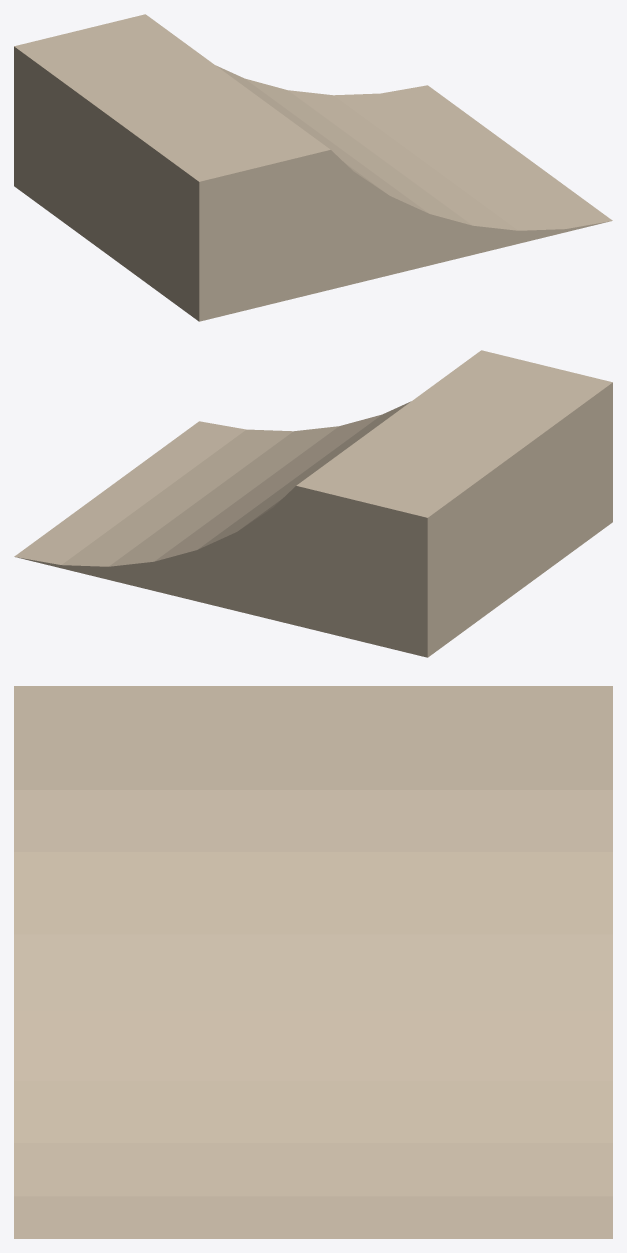
The model's file is qtr-pipe-small.glb.
3 views of the same model, one above another, from view 1: azimuth 30°, elevation 25°; view 2: azimuth 150°, elevation 25°; view 3: azimuth 270°, elevation 25° (orthographic). The views are drawn at different scales.
Parts seen in each view (by area): view 1: Mesh_Mesh_head_geo.001_lambert2SG.001; view 2: Mesh_Mesh_head_geo.001_lambert2SG.001; view 3: Mesh_Mesh_head_geo.001_lambert2SG.001.
Boxes of the visible parts, left/top/right/bottom form: Mesh_Mesh_head_geo.001_lambert2SG.001: left=14, top=14, right=612, bottom=321; Mesh_Mesh_head_geo.001_lambert2SG.001: left=14, top=350, right=612, bottom=657; Mesh_Mesh_head_geo.001_lambert2SG.001: left=14, top=686, right=612, bottom=1238.
Bounding box in the file's own units: 0.031 × 0.01 × 0.024.
